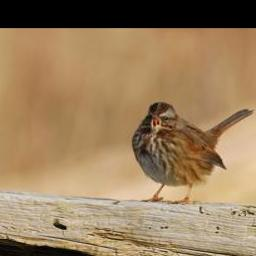Sparrow: (133, 100, 256, 204)
